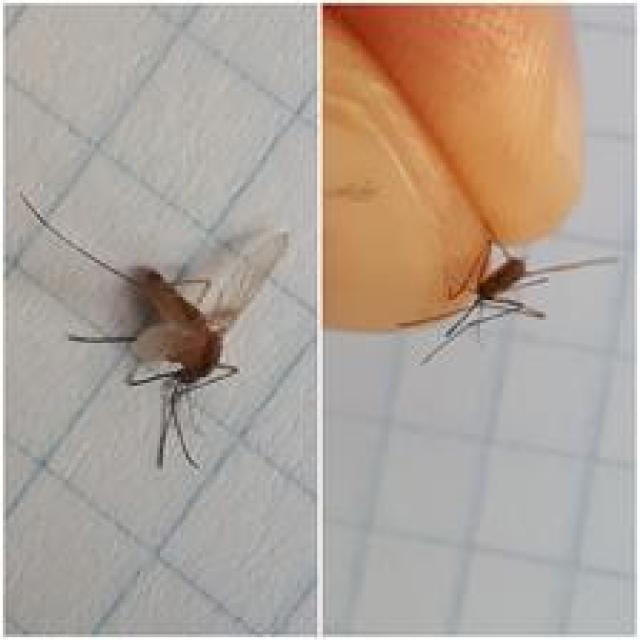Culex: (19, 187, 290, 470)
